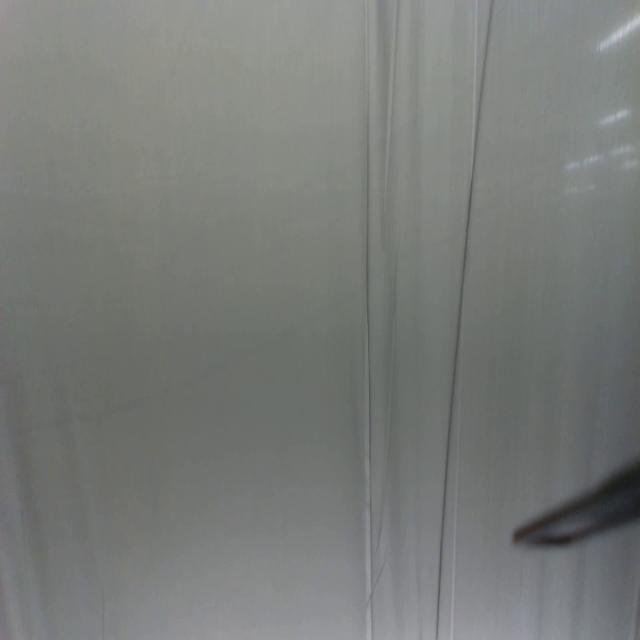crease: (434, 0, 498, 636), (362, 0, 375, 636), (383, 0, 401, 185)
